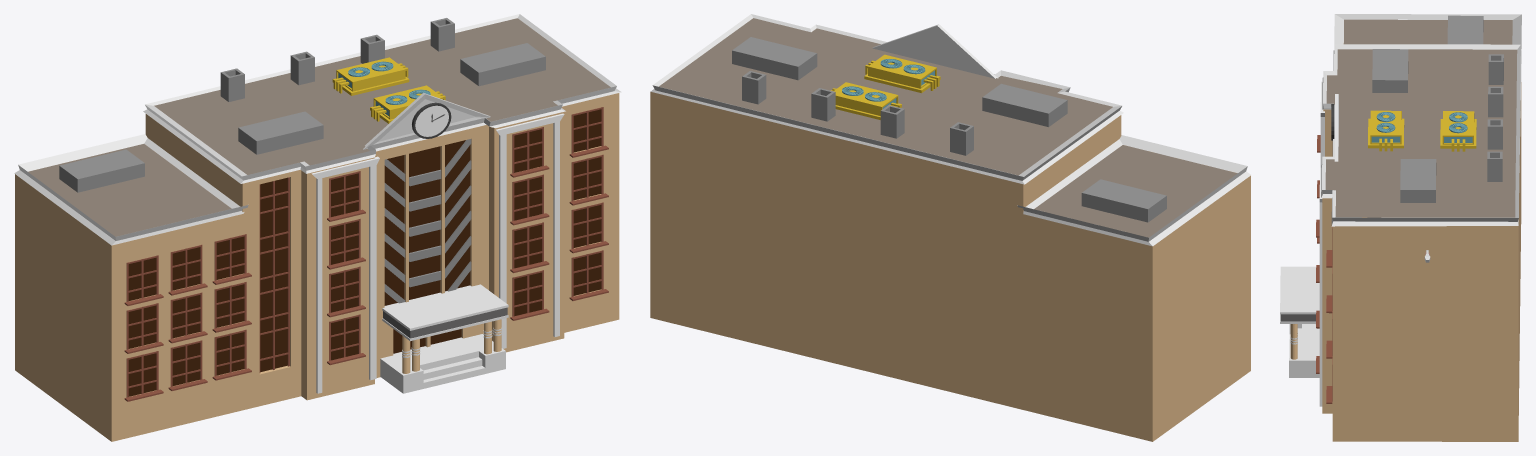
File: School.glb
3 views of the same model, side by side, from view 1: azimuth 30°, elevation 25°; view 2: azimuth 150°, elevation 25°; view 3: azimuth 270°, elevation 25° (orthographic). The views are drawn at different scales.
Visible parts, largest first — view 1: Pillar2.957; view 2: Pillar2.957; view 3: Pillar2.957.
Boxes of the visible parts, box(x1,y1,x2,y2) form: Pillar2.957: box(14, 14, 621, 441); Pillar2.957: box(650, 14, 1250, 441); Pillar2.957: box(1280, 14, 1521, 441).
Size of the model in its own units: 601 by 293 by 248.
